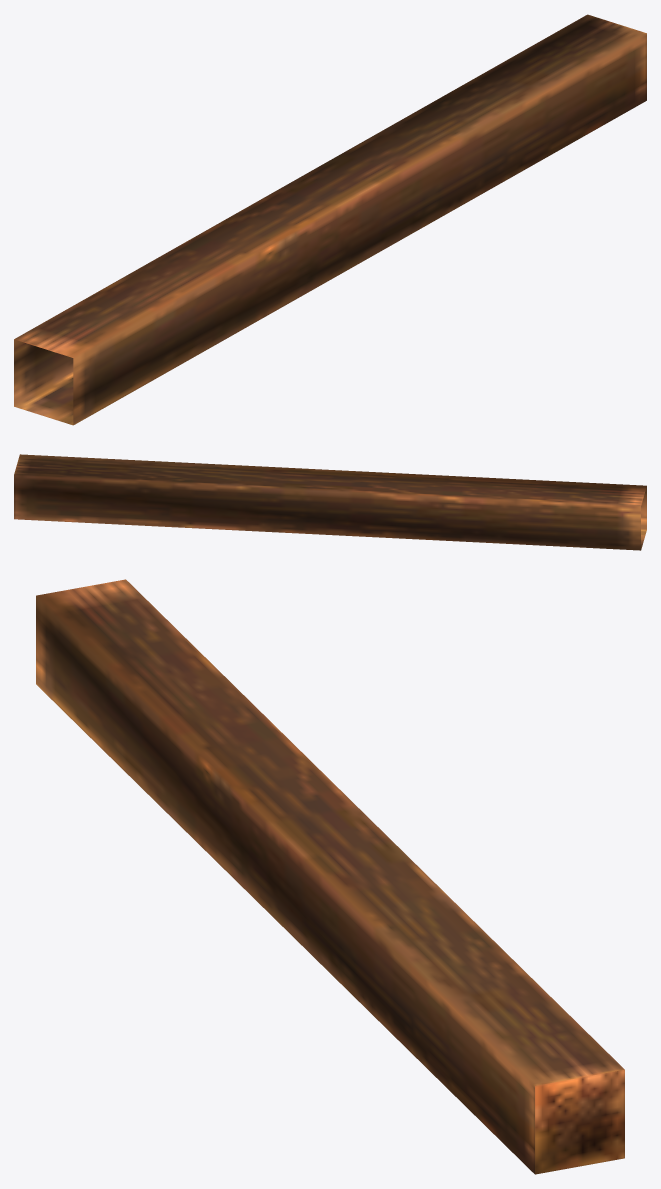
Rendered from SWORDLIGHT20_JAILBRACE46.fbx.
3 renders of one model, top to bottom at view 1: azimuth 30°, elevation 25°; view 2: azimuth 150°, elevation 25°; view 3: azimuth 270°, elevation 25°, orthographic. The views are drawn at different scales.
Visible parts, largest first — view 1: SWORDLIGHT20_JAILBRACE46; view 2: SWORDLIGHT20_JAILBRACE46; view 3: SWORDLIGHT20_JAILBRACE46.
Boxes of the visible parts, x1,y1,x2,y2 form: SWORDLIGHT20_JAILBRACE46: (14,14,646,425); SWORDLIGHT20_JAILBRACE46: (14,454,646,550); SWORDLIGHT20_JAILBRACE46: (36,579,624,1174).
Size of the model in its own units: 48997 by 4000 by 24077.
1 material, 1 textured.
